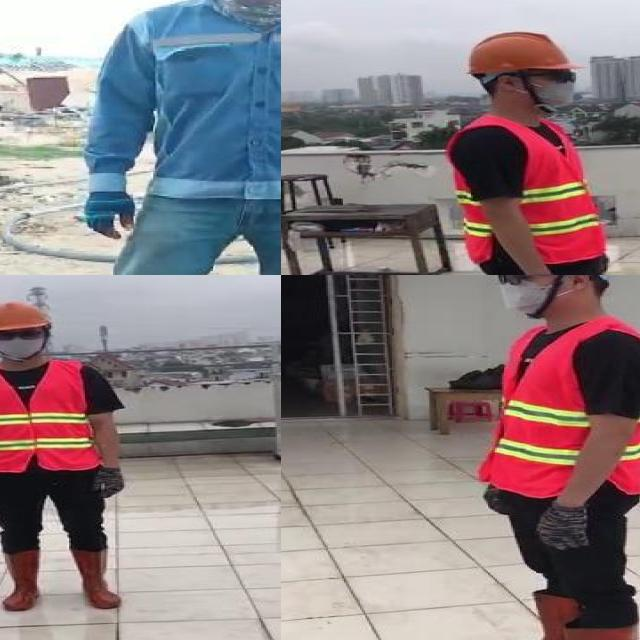boots: (479, 586, 616, 640), (66, 548, 124, 607), (0, 550, 44, 609)
face_mask: (492, 275, 577, 316), (531, 68, 585, 108), (0, 328, 46, 358)
glasses: (487, 275, 567, 289), (537, 66, 579, 85), (0, 327, 48, 342)
hand_glove: (79, 188, 143, 244), (531, 503, 600, 553), (92, 470, 126, 500)
head_helmet: (461, 29, 579, 77), (0, 299, 52, 332)
person: (454, 275, 640, 640), (56, 0, 281, 275), (438, 23, 637, 275), (0, 302, 149, 612)
vest: (473, 322, 640, 498), (444, 113, 602, 261), (0, 361, 99, 471)
